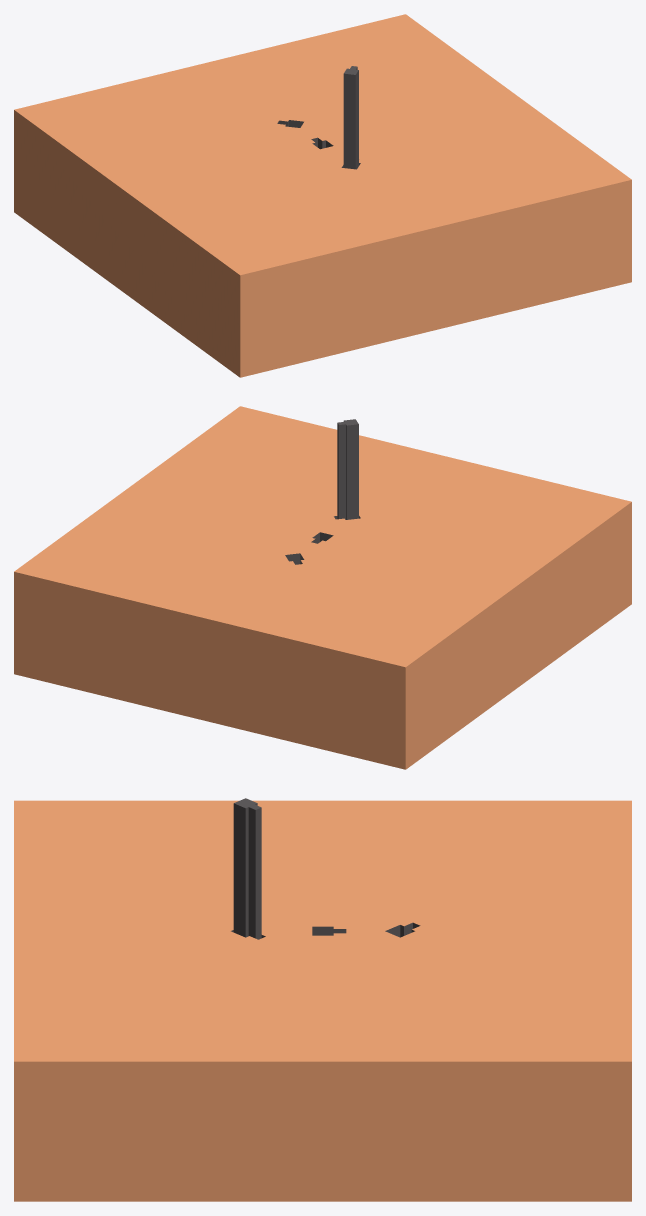
The model's file is Pegboard.fbx.
3 views of the same model, one above another, from view 1: azimuth 30°, elevation 25°; view 2: azimuth 150°, elevation 25°; view 3: azimuth 270°, elevation 25° (orthographic). The views are drawn at different scales.
Parts seen in each view (by area): view 1: Pegboard, Pegboard_Filler; view 2: Pegboard, Pegboard_Filler; view 3: Pegboard, Pegboard_Filler.
Part boxes in pixels (x1,y1,x2,y2): Pegboard: (14,14,631,377); Pegboard_Filler: (343,66,358,169); Pegboard: (14,406,631,769); Pegboard_Filler: (337,419,358,519); Pegboard: (14,800,631,1201); Pegboard_Filler: (233,798,261,939).
Size of the model in its own units: 400 by 191 by 400.
